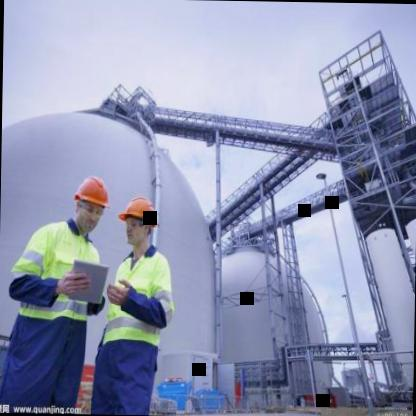helmet: (115, 190, 161, 252), (69, 170, 112, 232)
